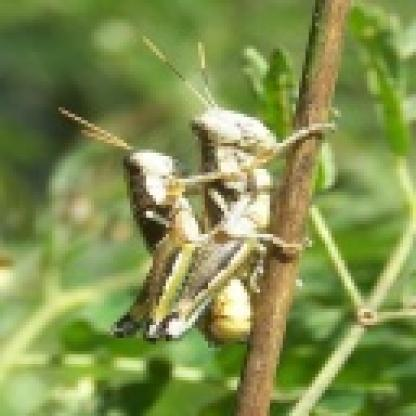grasshopper: (172, 60, 302, 366), (90, 132, 223, 362)
